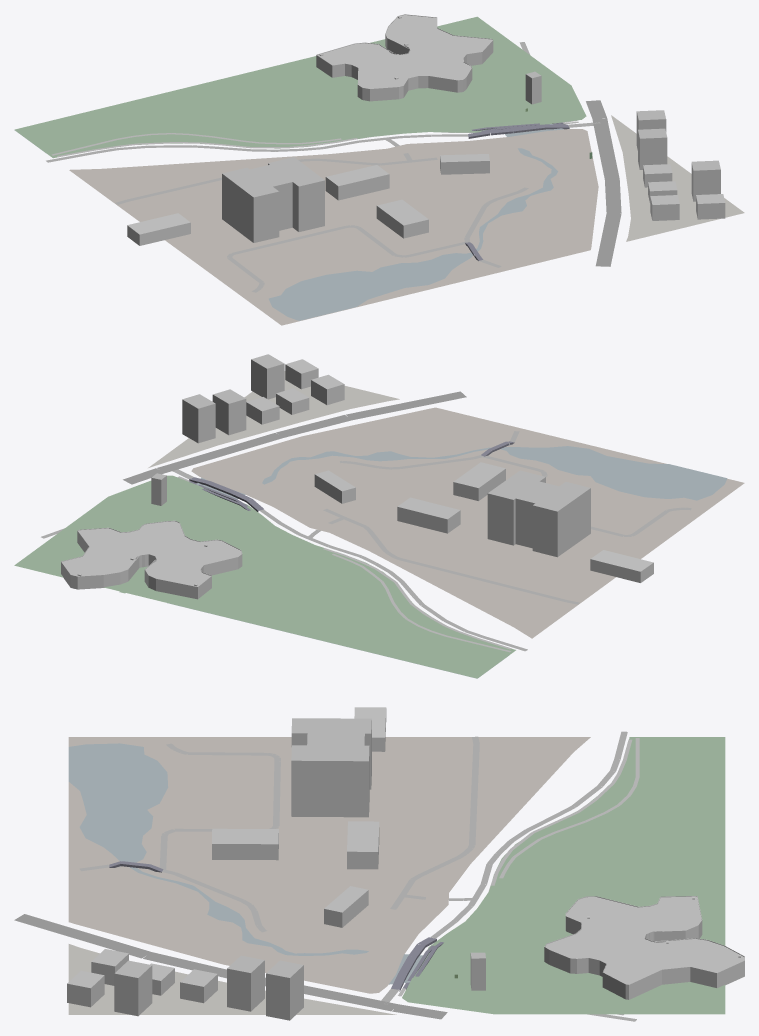
3 renders of one model, top to bottom at view 1: azimuth 30°, elevation 25°; view 2: azimuth 150°, elevation 25°; view 3: azimuth 270°, elevation 25°, orthographic. The views are drawn at different scales.
Bounding box in the file's own units: 539 × 50.04 × 557.
